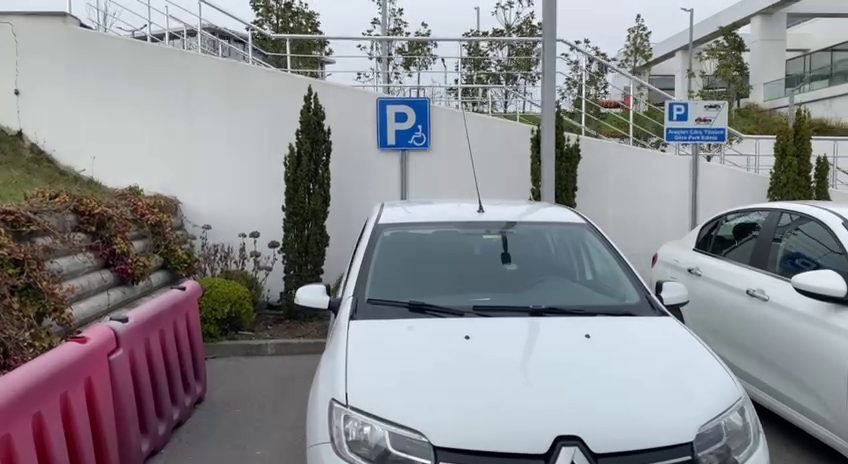parking: (374, 95, 432, 151), (667, 101, 690, 123)
